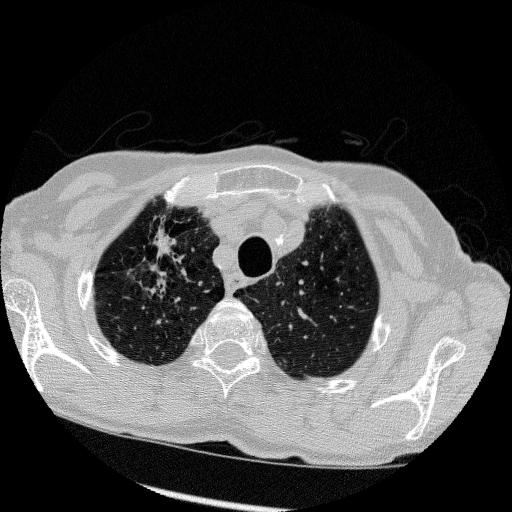nodule: (145, 226, 179, 260)
